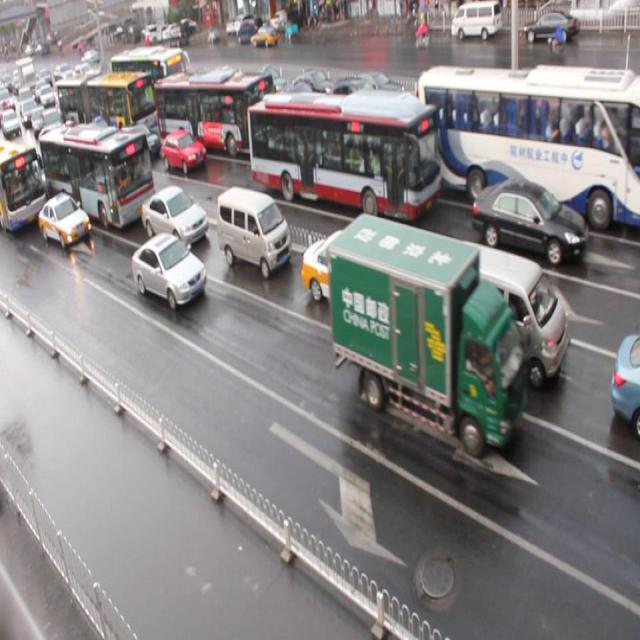bus: (327, 214, 522, 454)
car: (470, 177, 588, 269), (300, 228, 404, 321), (130, 230, 207, 310), (141, 185, 208, 250), (39, 193, 92, 247), (161, 127, 206, 175), (116, 123, 160, 164)
truck: (440, 240, 568, 386), (216, 186, 292, 276)
van: (415, 65, 640, 228), (247, 90, 438, 219), (38, 121, 156, 232), (154, 70, 274, 160), (58, 71, 158, 132), (1, 134, 46, 226)
